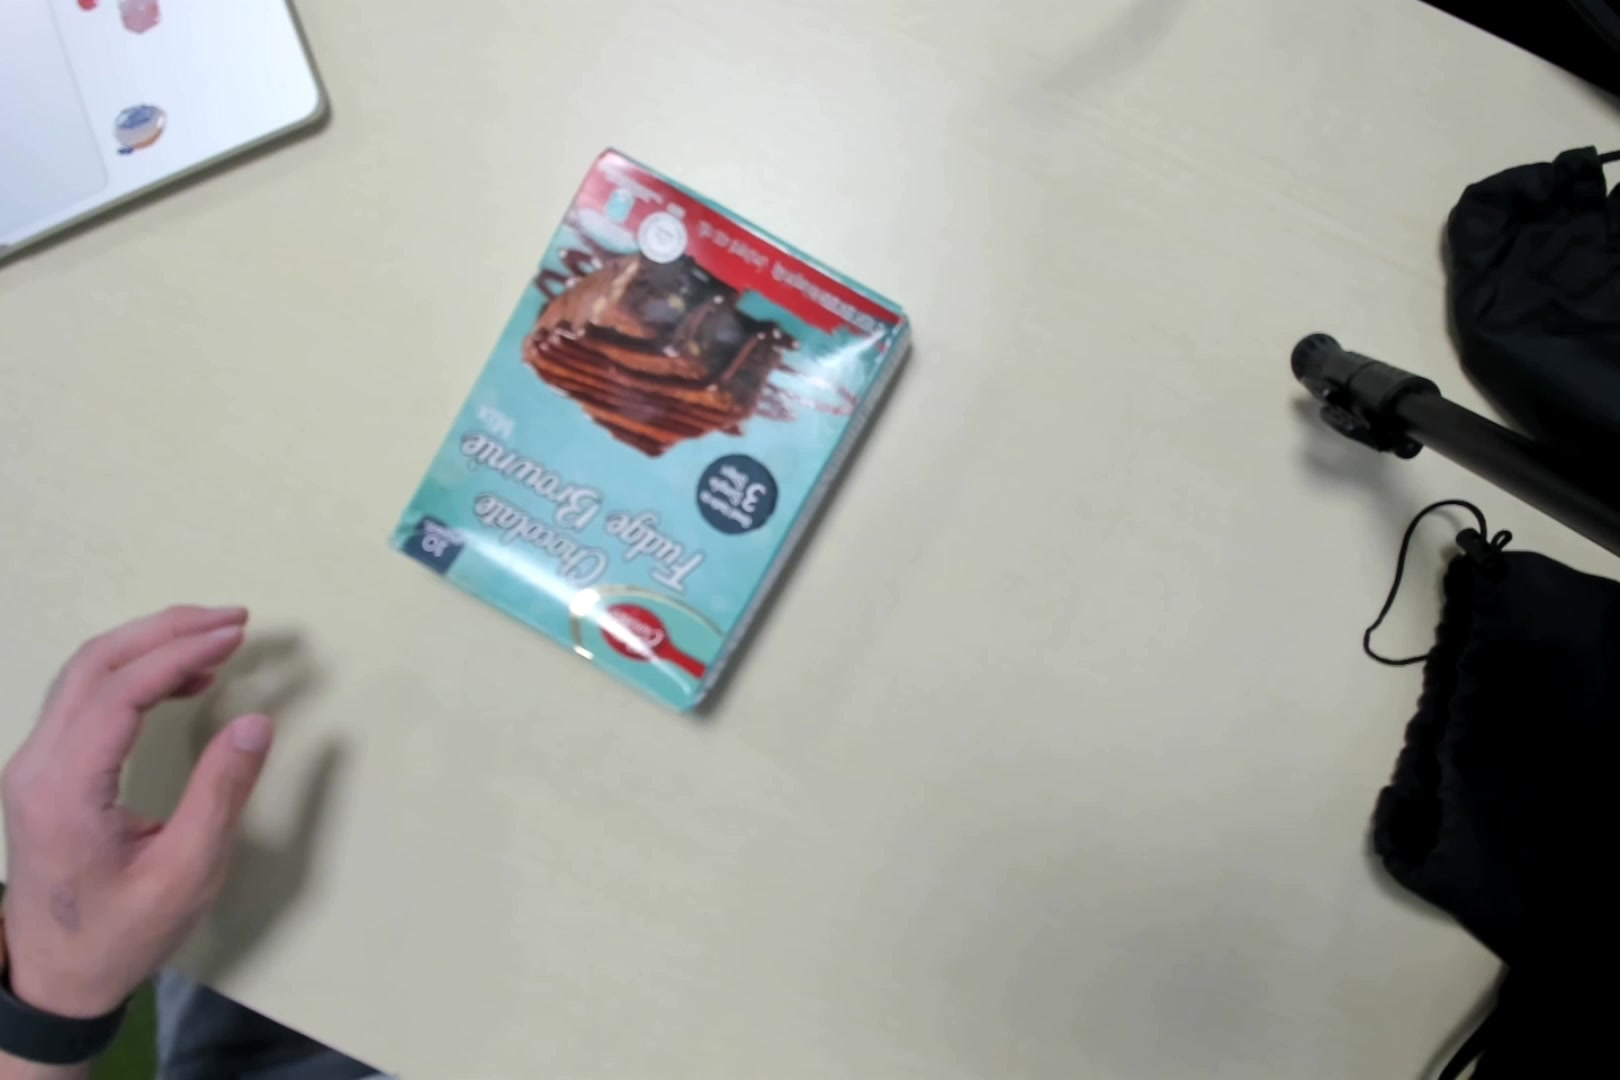OtherBakingNeeds_400-499g_Halal_NonHealthy: (378, 151, 918, 716)
